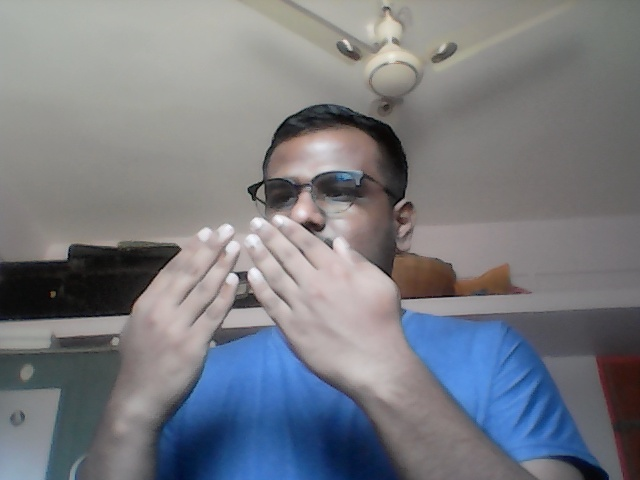Thank You: (118, 212, 406, 394)
